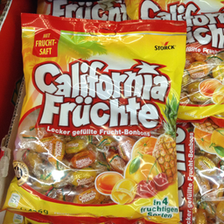candy: (13, 10, 184, 219)
